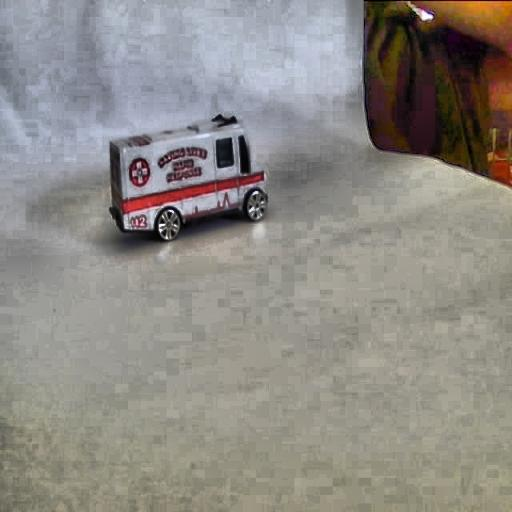ambulance: (108, 112, 267, 242)
